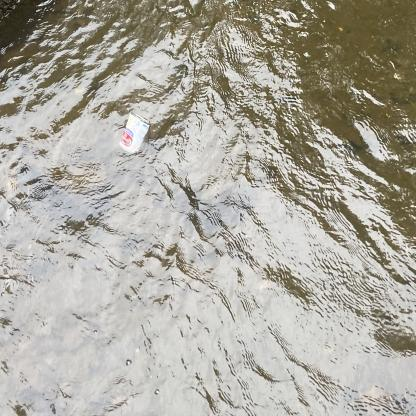trash: (116, 110, 152, 160)
